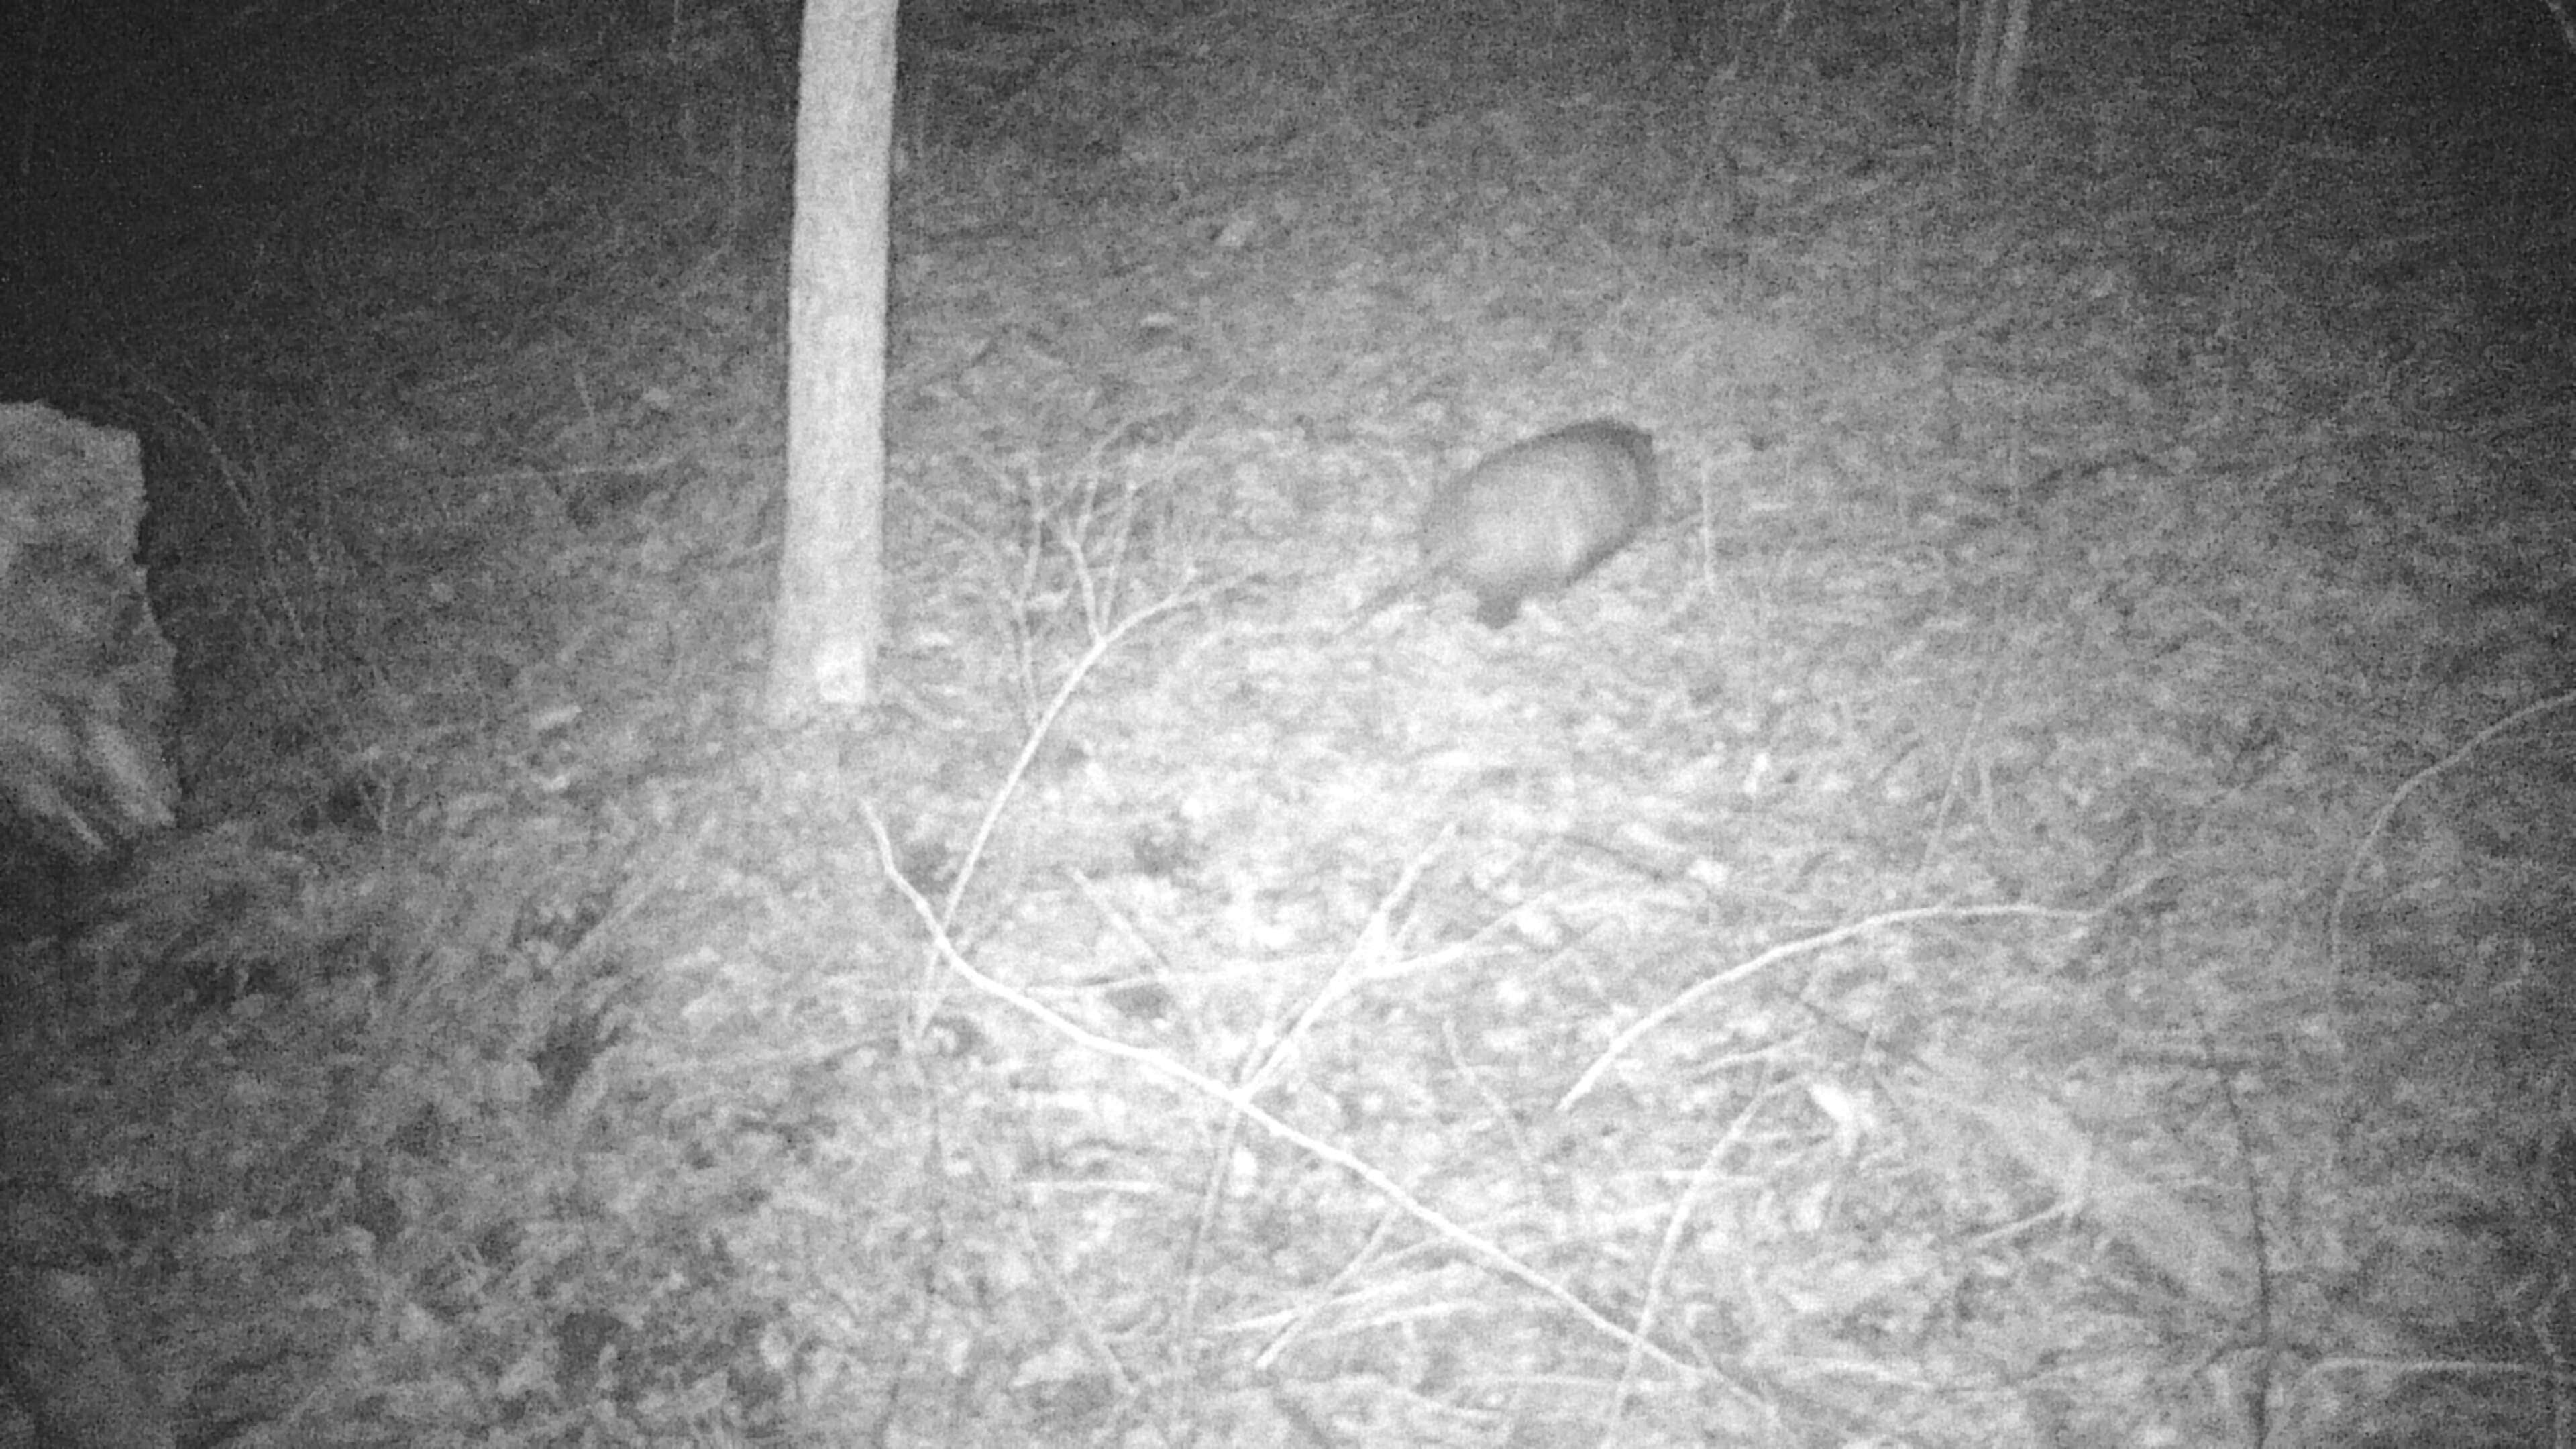Possum: (1330, 412, 1660, 635)
